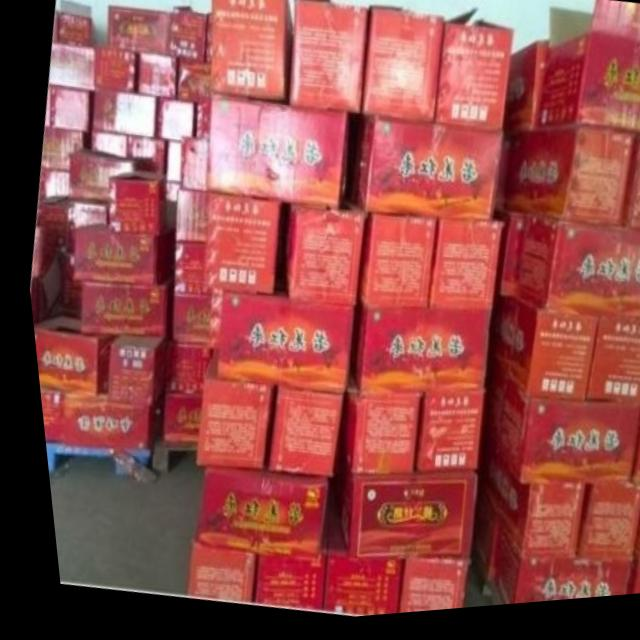box: (474, 354, 635, 490), (201, 93, 346, 216), (344, 120, 501, 224), (323, 462, 465, 569), (534, 9, 640, 147), (501, 223, 640, 328), (468, 432, 575, 566), (211, 294, 347, 395), (498, 137, 633, 237), (341, 309, 484, 397), (477, 523, 617, 612), (182, 470, 320, 560), (480, 300, 591, 411), (285, 0, 368, 119), (184, 349, 264, 472), (356, 13, 443, 126), (309, 510, 392, 620), (433, 17, 508, 138), (248, 384, 336, 483), (329, 377, 412, 481), (198, 193, 280, 298), (279, 202, 358, 309), (210, 0, 290, 103), (26, 312, 114, 399), (352, 219, 434, 312), (49, 384, 153, 454), (419, 224, 500, 313), (402, 395, 476, 481), (564, 487, 635, 573), (71, 274, 166, 337), (575, 323, 640, 413), (66, 224, 150, 289), (173, 541, 247, 605), (241, 551, 313, 616), (99, 159, 155, 238), (499, 49, 546, 142), (95, 338, 158, 405), (384, 562, 454, 619), (458, 481, 489, 591), (63, 150, 130, 200), (86, 94, 157, 139), (109, 8, 171, 57), (150, 345, 207, 398), (614, 497, 640, 604), (46, 42, 94, 92), (91, 48, 139, 96), (149, 394, 193, 443), (134, 52, 175, 103), (618, 146, 640, 241), (168, 241, 204, 299), (164, 296, 204, 347), (165, 13, 207, 61), (37, 127, 81, 171), (171, 193, 206, 246), (618, 415, 640, 498), (46, 86, 84, 134), (123, 138, 161, 183), (175, 140, 205, 196), (157, 104, 194, 148), (51, 12, 92, 51), (174, 63, 210, 107), (31, 384, 52, 445), (87, 131, 124, 163), (158, 142, 177, 187), (193, 107, 207, 141)
